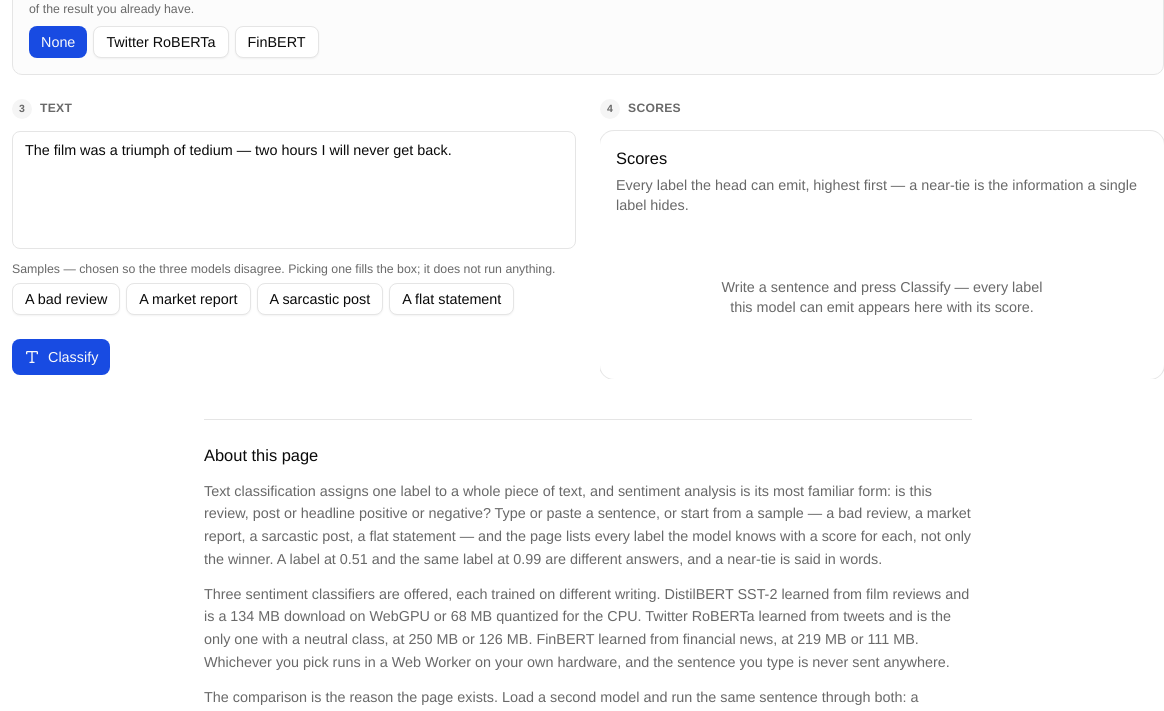
Scenario: TextClassificationPage › renders every label with its score
(page scrolled)
Click the button "Classify" at x=61, y=356, box left=12, top=338, right=110, bottom=374
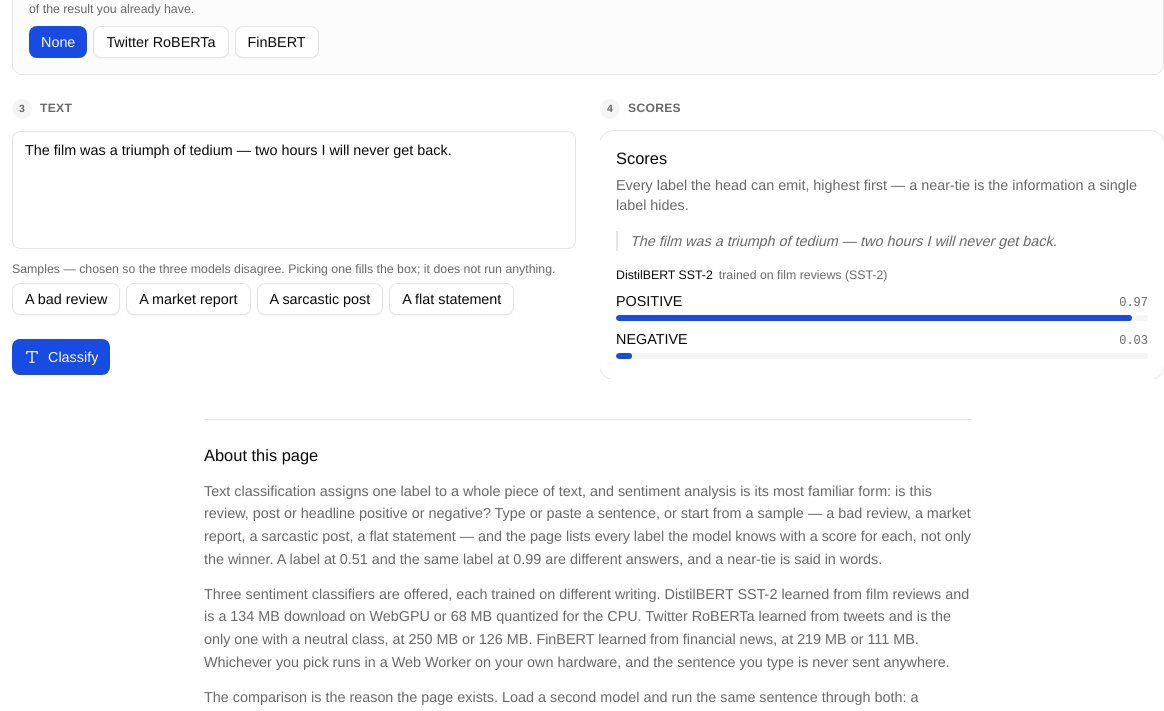
Expected: the element with test id "answer-primary" is shown, left=616, top=266, right=1148, bottom=358
Expected: the text "POSITIVE" is shown, left=616, top=290, right=682, bottom=310
Expected: the text "0.97" is shown, left=1119, top=294, right=1148, bottom=310
